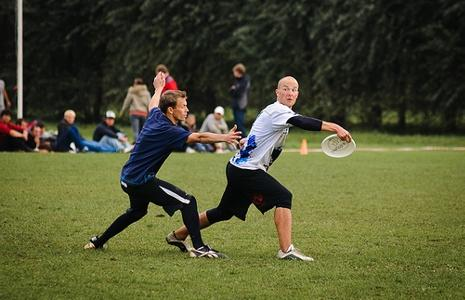person: (167, 76, 352, 263)
